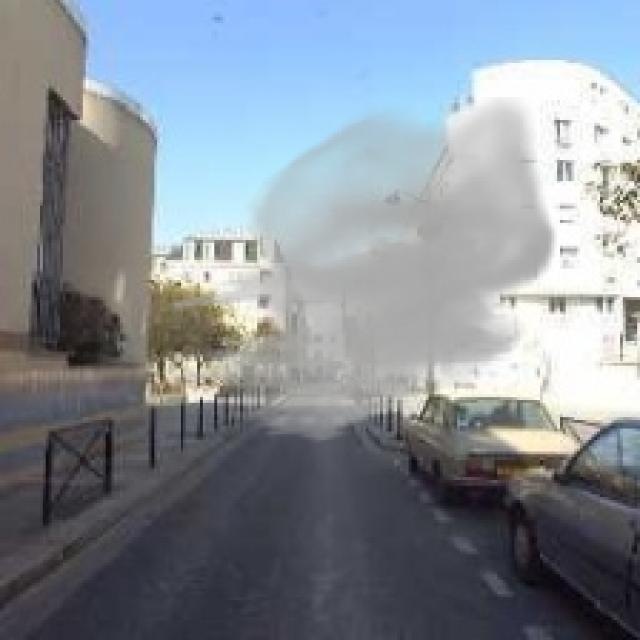smoke: (169, 97, 557, 446)
